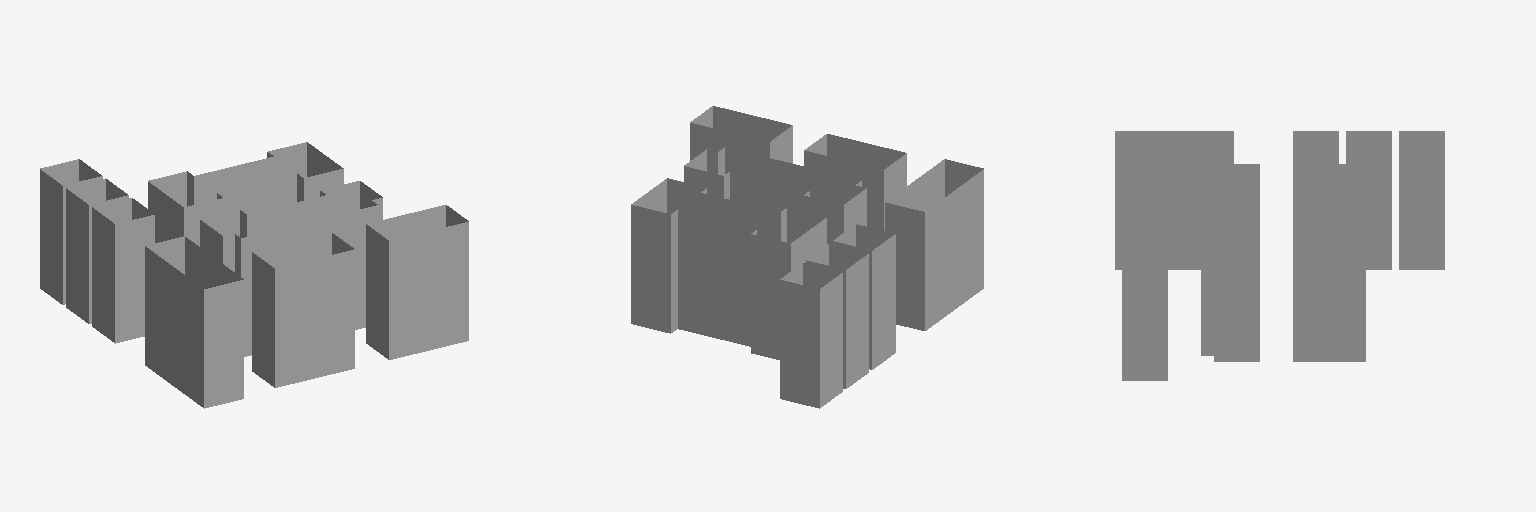
File: buildingModel.obj
3 views of the same model, side by side, from view 1: azimuth 30°, elevation 25°; view 2: azimuth 150°, elevation 25°; view 3: azimuth 270°, elevation 25° (orthographic).
Size of the model in its own units: 47 by 20 by 50.